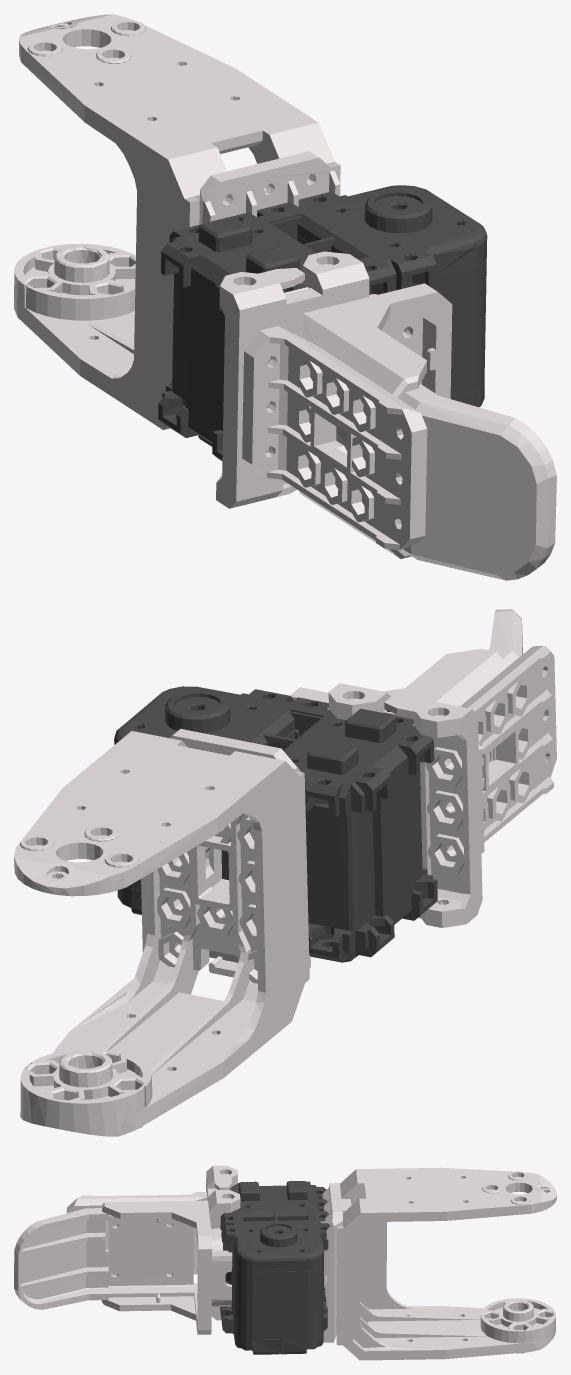
File: clamp_arm_link_1.obj
The picture shows the model from 3 angles, top to bottom: view 1: azimuth 30°, elevation 25°; view 2: azimuth 150°, elevation 25°; view 3: azimuth 270°, elevation 25°; orthographic projection. The views are drawn at different scales.
Parts seen in each view (by area): view 1: clamp_arm_link_1; view 2: clamp_arm_link_1; view 3: clamp_arm_link_1.
Part boxes in pixels (left/top/right/bottom): clamp_arm_link_1: left=14, top=14, right=556, bottom=580; clamp_arm_link_1: left=14, top=609, right=556, bottom=1136; clamp_arm_link_1: left=14, top=1165, right=556, bottom=1360.
Size of the model in its own units: 54.83 by 49.24 by 159.
